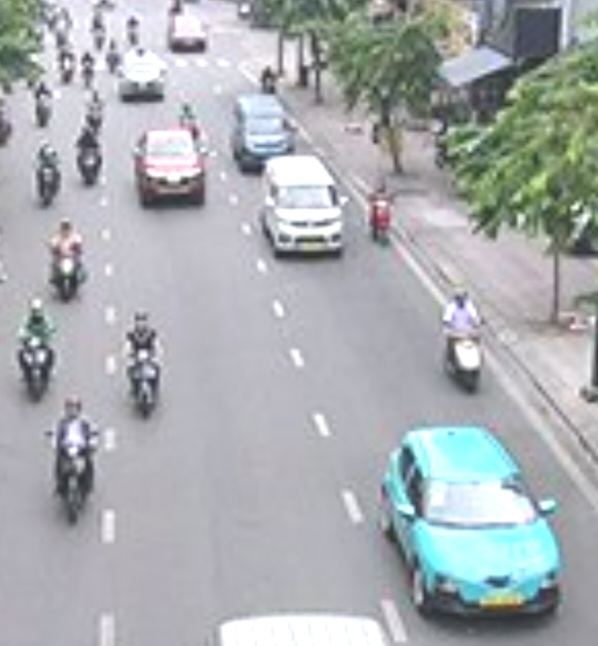car: (390, 424, 563, 615), (265, 158, 343, 259), (134, 131, 204, 205), (237, 96, 294, 168), (117, 52, 167, 101)
